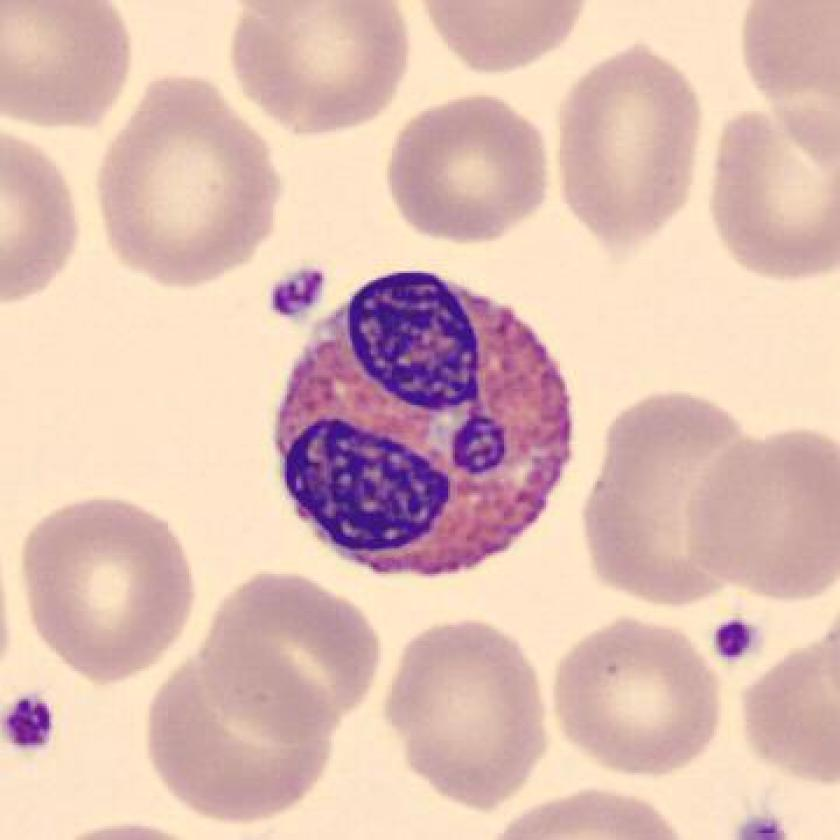eosinophil: (253, 260, 589, 589)
